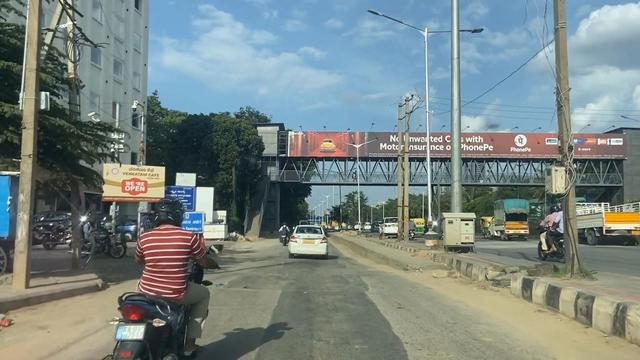LMV: (268, 219, 315, 256)
UnsurfacedRoad: (230, 265, 381, 314)
